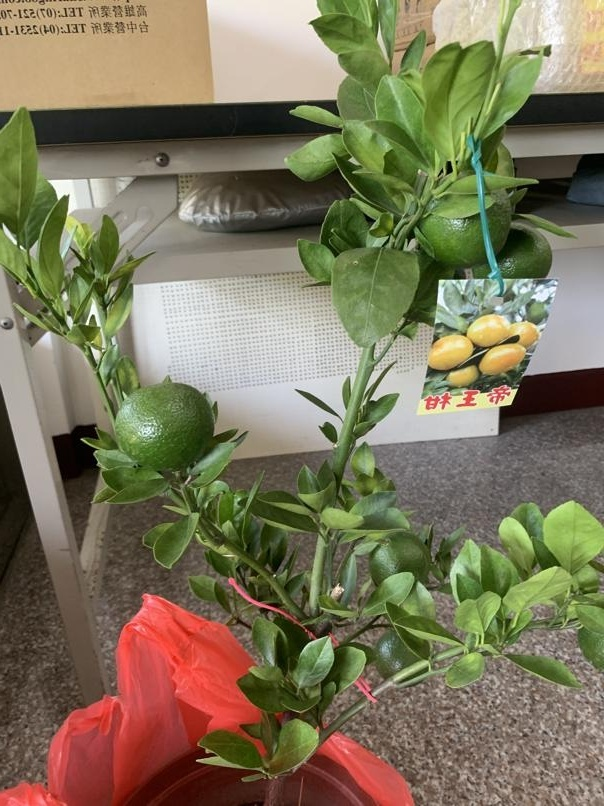Tangerine: (112, 378, 216, 470)
